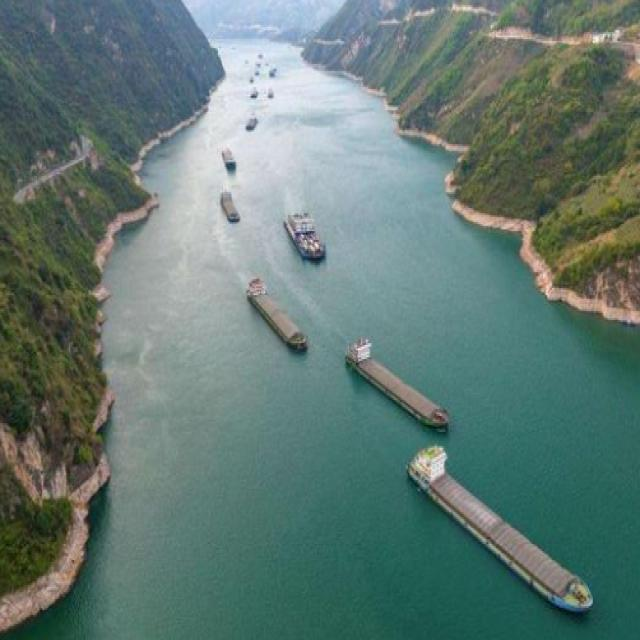cargoship: (405, 446, 597, 634), (342, 320, 452, 430), (240, 273, 308, 361), (284, 200, 334, 269), (221, 184, 246, 231), (221, 142, 237, 176)
